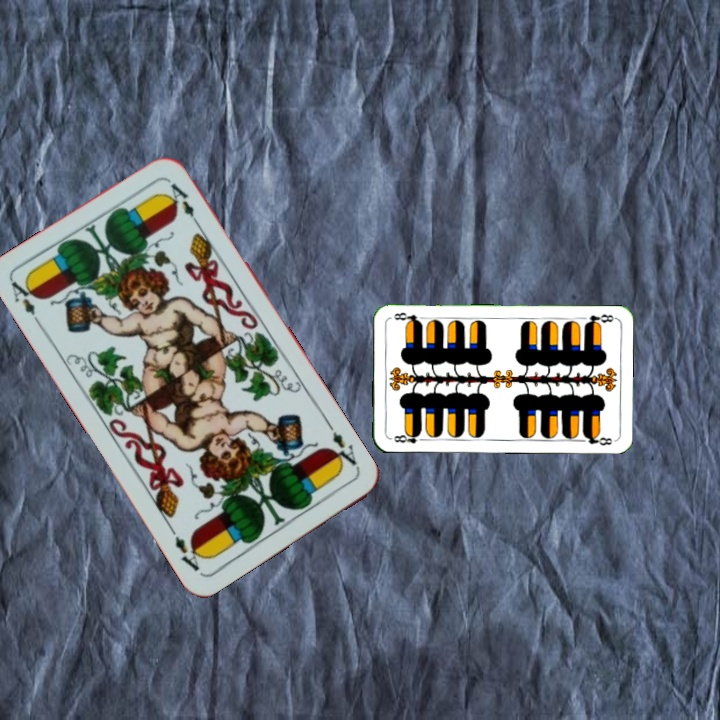E8: (390, 428, 428, 446), (580, 310, 617, 328)
EA: (324, 427, 362, 473), (7, 274, 40, 318)
